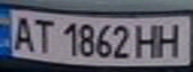1: (57, 19, 81, 56)
2: (112, 21, 136, 60)
6: (93, 21, 115, 60)
8: (75, 20, 96, 58)
A: (6, 12, 39, 53)
H: (154, 19, 187, 58), (133, 20, 163, 60)
T: (30, 16, 57, 54)
